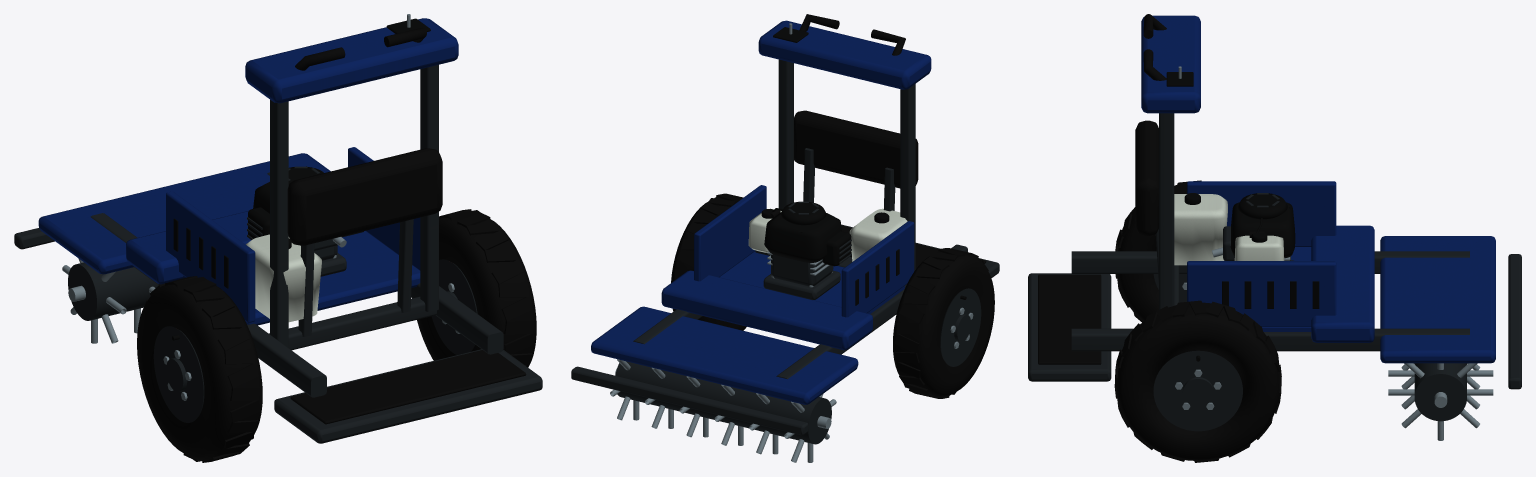
The model's file is StandOnAerator.gltf.
3 renders of one model, left to right at view 1: azimuth 30°, elevation 25°; view 2: azimuth 150°, elevation 25°; view 3: azimuth 270°, elevation 25°, orthographic. The views are drawn at different scales.
Parts seen in each view (by area): view 1: StandOnAerator__Body, StandOnAerator__Wheel_Rear-1, StandOnAerator__Wheel_Rear1, StandOnAerator__Wheel_Tines; view 2: StandOnAerator__Body, StandOnAerator__Wheel_Rear-1, StandOnAerator__Wheel_Tines, StandOnAerator__Wheel_Rear1; view 3: StandOnAerator__Body, StandOnAerator__Wheel_Rear1, StandOnAerator__Wheel_Tines, StandOnAerator__Wheel_Rear-1.
Part boxes in pixels (<box>): StandOnAerator__Body: <box>14,14,542,443</box>; StandOnAerator__Wheel_Rear-1: <box>137,276,262,462</box>; StandOnAerator__Wheel_Rear1: <box>417,209,536,367</box>; StandOnAerator__Wheel_Tines: <box>62,258,158,343</box>; StandOnAerator__Body: <box>571,14,999,435</box>; StandOnAerator__Wheel_Rear-1: <box>893,248,994,398</box>; StandOnAerator__Wheel_Tines: <box>610,359,836,462</box>; StandOnAerator__Wheel_Rear1: <box>671,193,746,330</box>; StandOnAerator__Body: <box>1028,14,1521,389</box>; StandOnAerator__Wheel_Rear1: <box>1114,300,1281,462</box>; StandOnAerator__Wheel_Tines: <box>1388,363,1493,440</box>; StandOnAerator__Wheel_Rear-1: <box>1115,180,1201,322</box>.
Size of the model in its own units: 1.06 by 1.23 by 1.54.
Materials: 1 (1 with a texture image).
